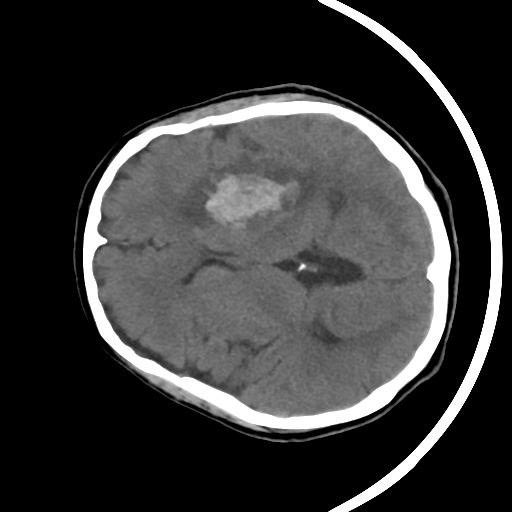a: (167, 146, 327, 238)
